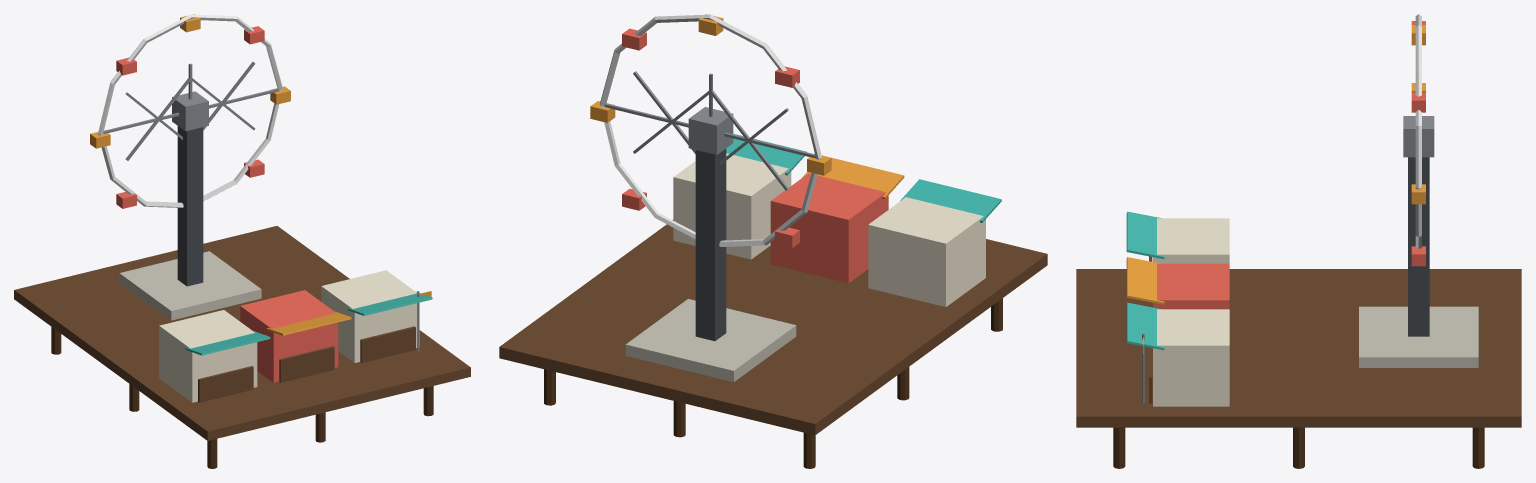
File: building.pier-carnival.glb
The picture shows the model from 3 angles, left to right: view 1: azimuth 30°, elevation 25°; view 2: azimuth 150°, elevation 25°; view 3: azimuth 270°, elevation 25°; orthographic projection. The views are drawn at different scales.
Parts seen in each view (by area): view 1: building.pier-carnival; view 2: building.pier-carnival; view 3: building.pier-carnival.
Boxes of the visible parts, left/top/right/bottom form: building.pier-carnival: left=14, top=14, right=470, bottom=468; building.pier-carnival: left=499, top=14, right=1047, bottom=468; building.pier-carnival: left=1076, top=14, right=1521, bottom=468.
Size of the model in its own units: 14.6 by 17.54 by 18.6.
